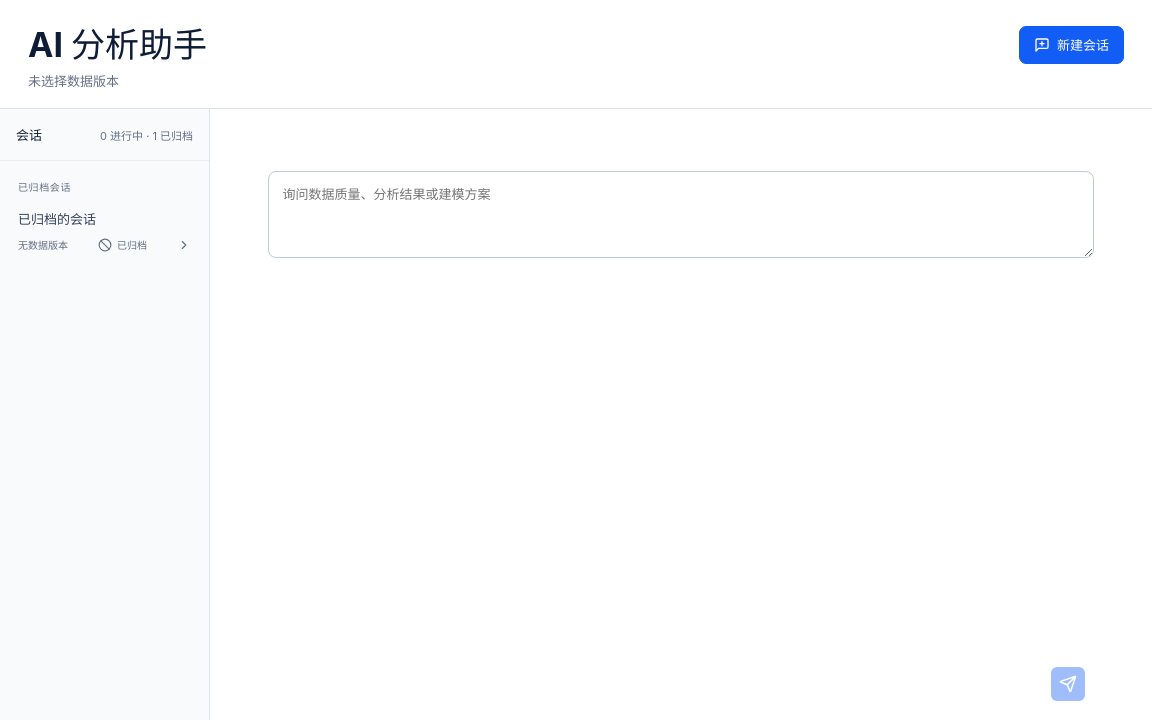
AssistantPage conversations › does not auto-select when every conversation is archived
Expected: the text "已归档" is shown, [98,237,147,252]
Click the text "已归档的会话": x=57, y=219 [18,211,96,227]
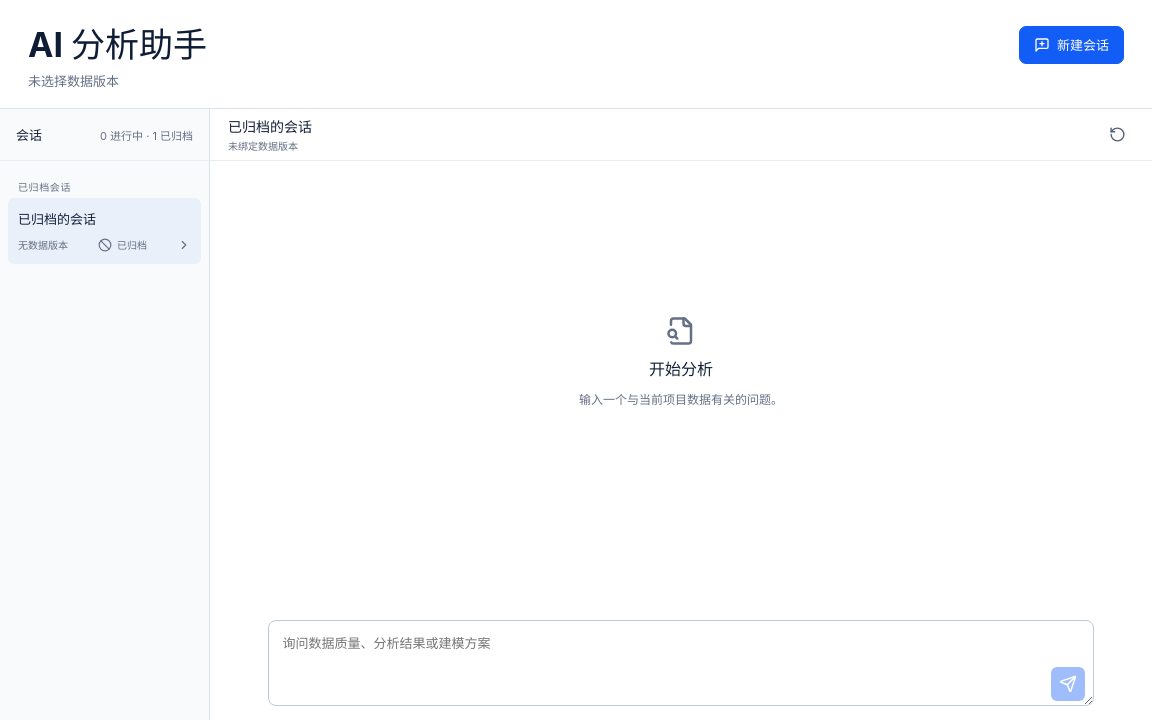
Expected: the button named "恢复会话" is shown, [1100,118,1134,152]
